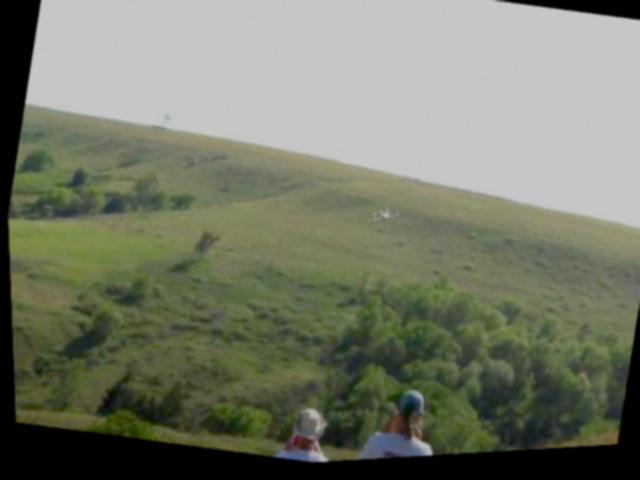iha: (359, 204, 399, 233)
